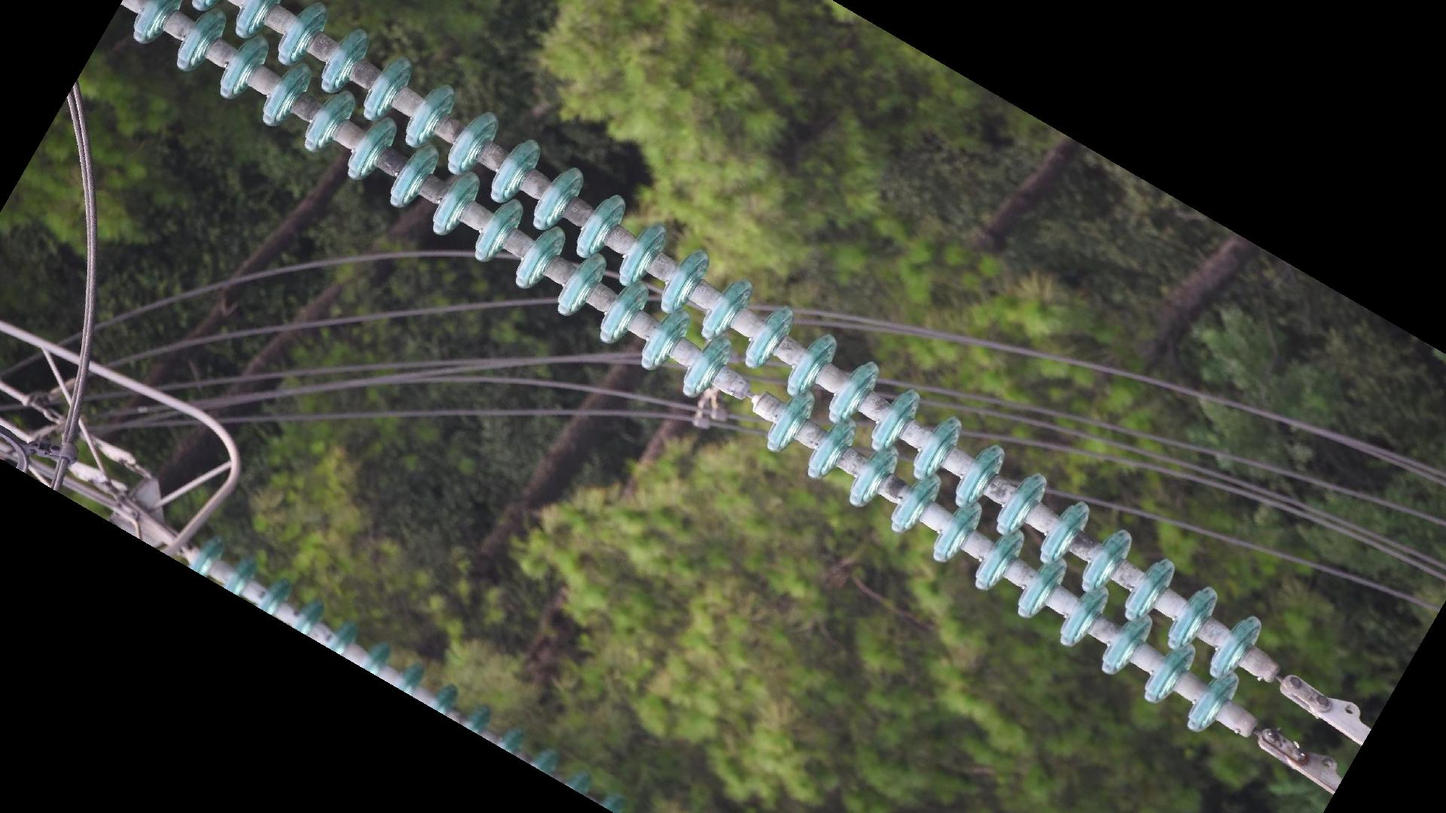insulator: (120, 1, 1270, 746)
insulator_stringdrop: (676, 330, 823, 458)
